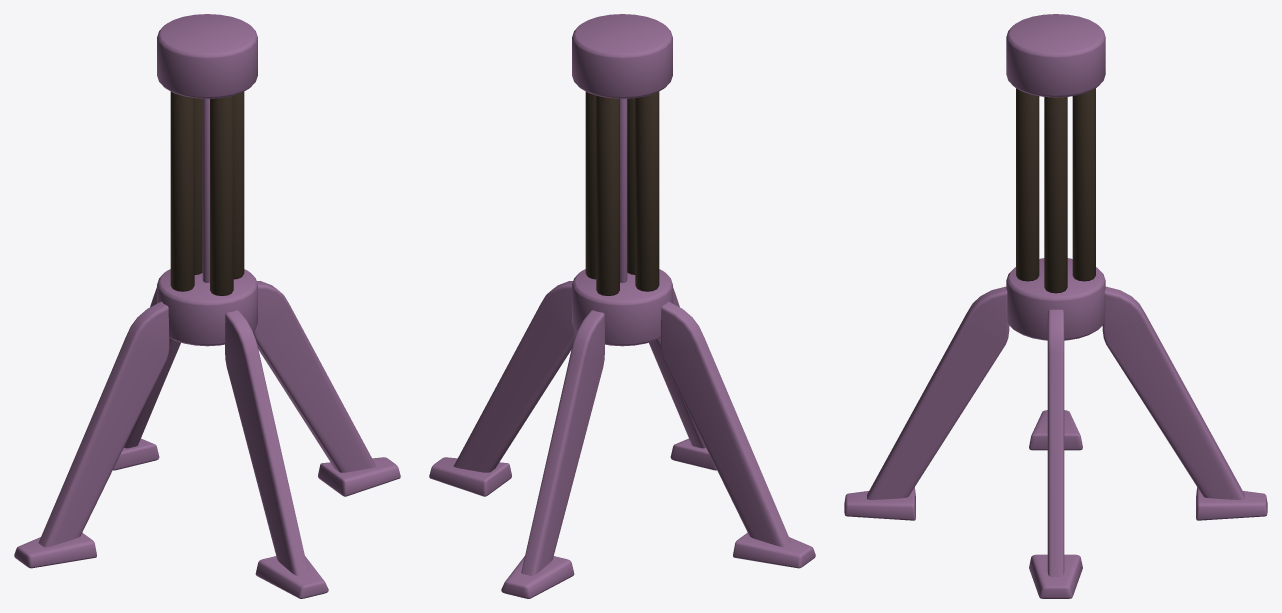
File: Light03.FBX
3 views of the same model, side by side, from view 1: azimuth 30°, elevation 25°; view 2: azimuth 150°, elevation 25°; view 3: azimuth 270°, elevation 25° (orthographic).
Visible parts, largest first — view 1: SM_Light03; view 2: SM_Light03; view 3: SM_Light03.
Part boxes in pixels (x1,y1,x2,y2): SM_Light03: (14,14,400,598); SM_Light03: (429,14,815,598); SM_Light03: (844,14,1267,598).
Size of the model in its own units: 37.2 by 46.25 by 37.2.
